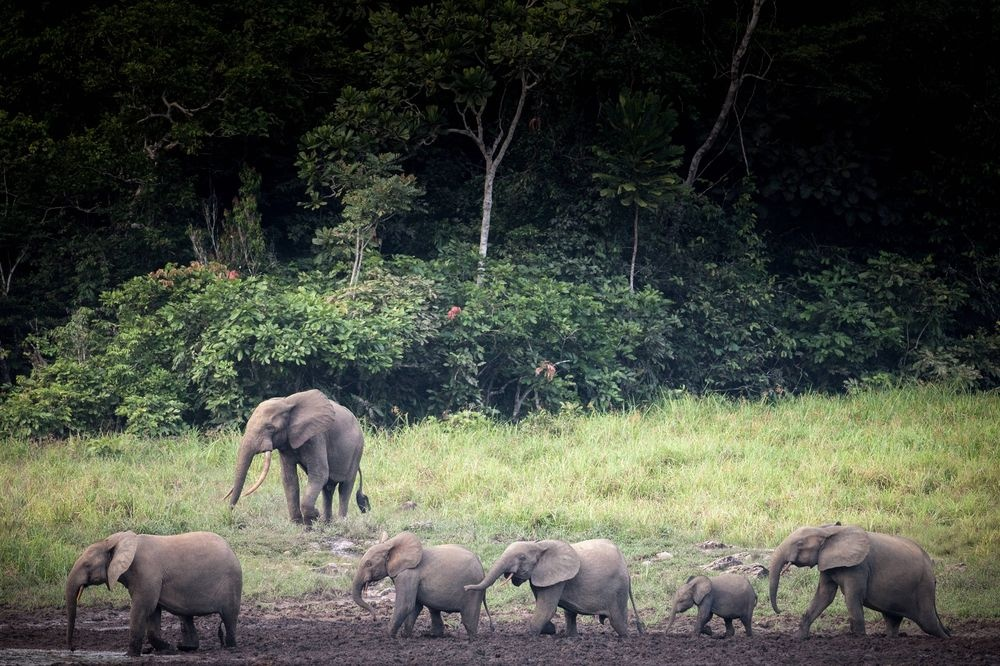elephant: (60, 522, 251, 658), (219, 381, 379, 533), (765, 521, 957, 641), (463, 533, 649, 639), (349, 527, 493, 641), (658, 570, 763, 643)
